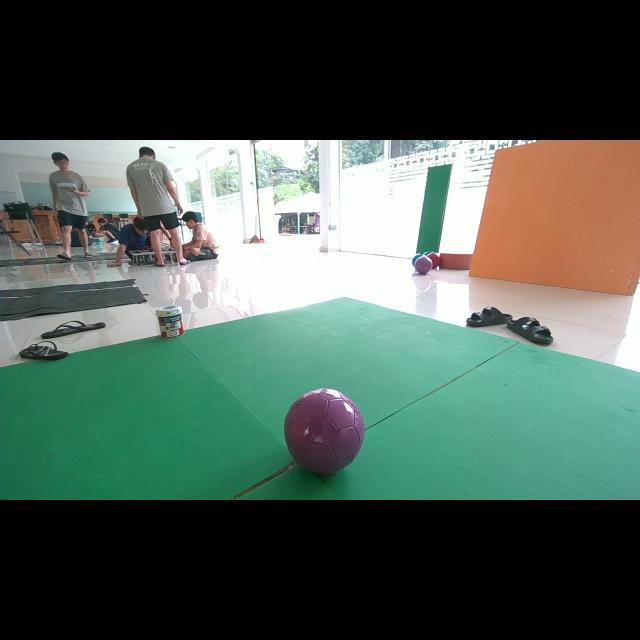P: (284, 388, 365, 473)
